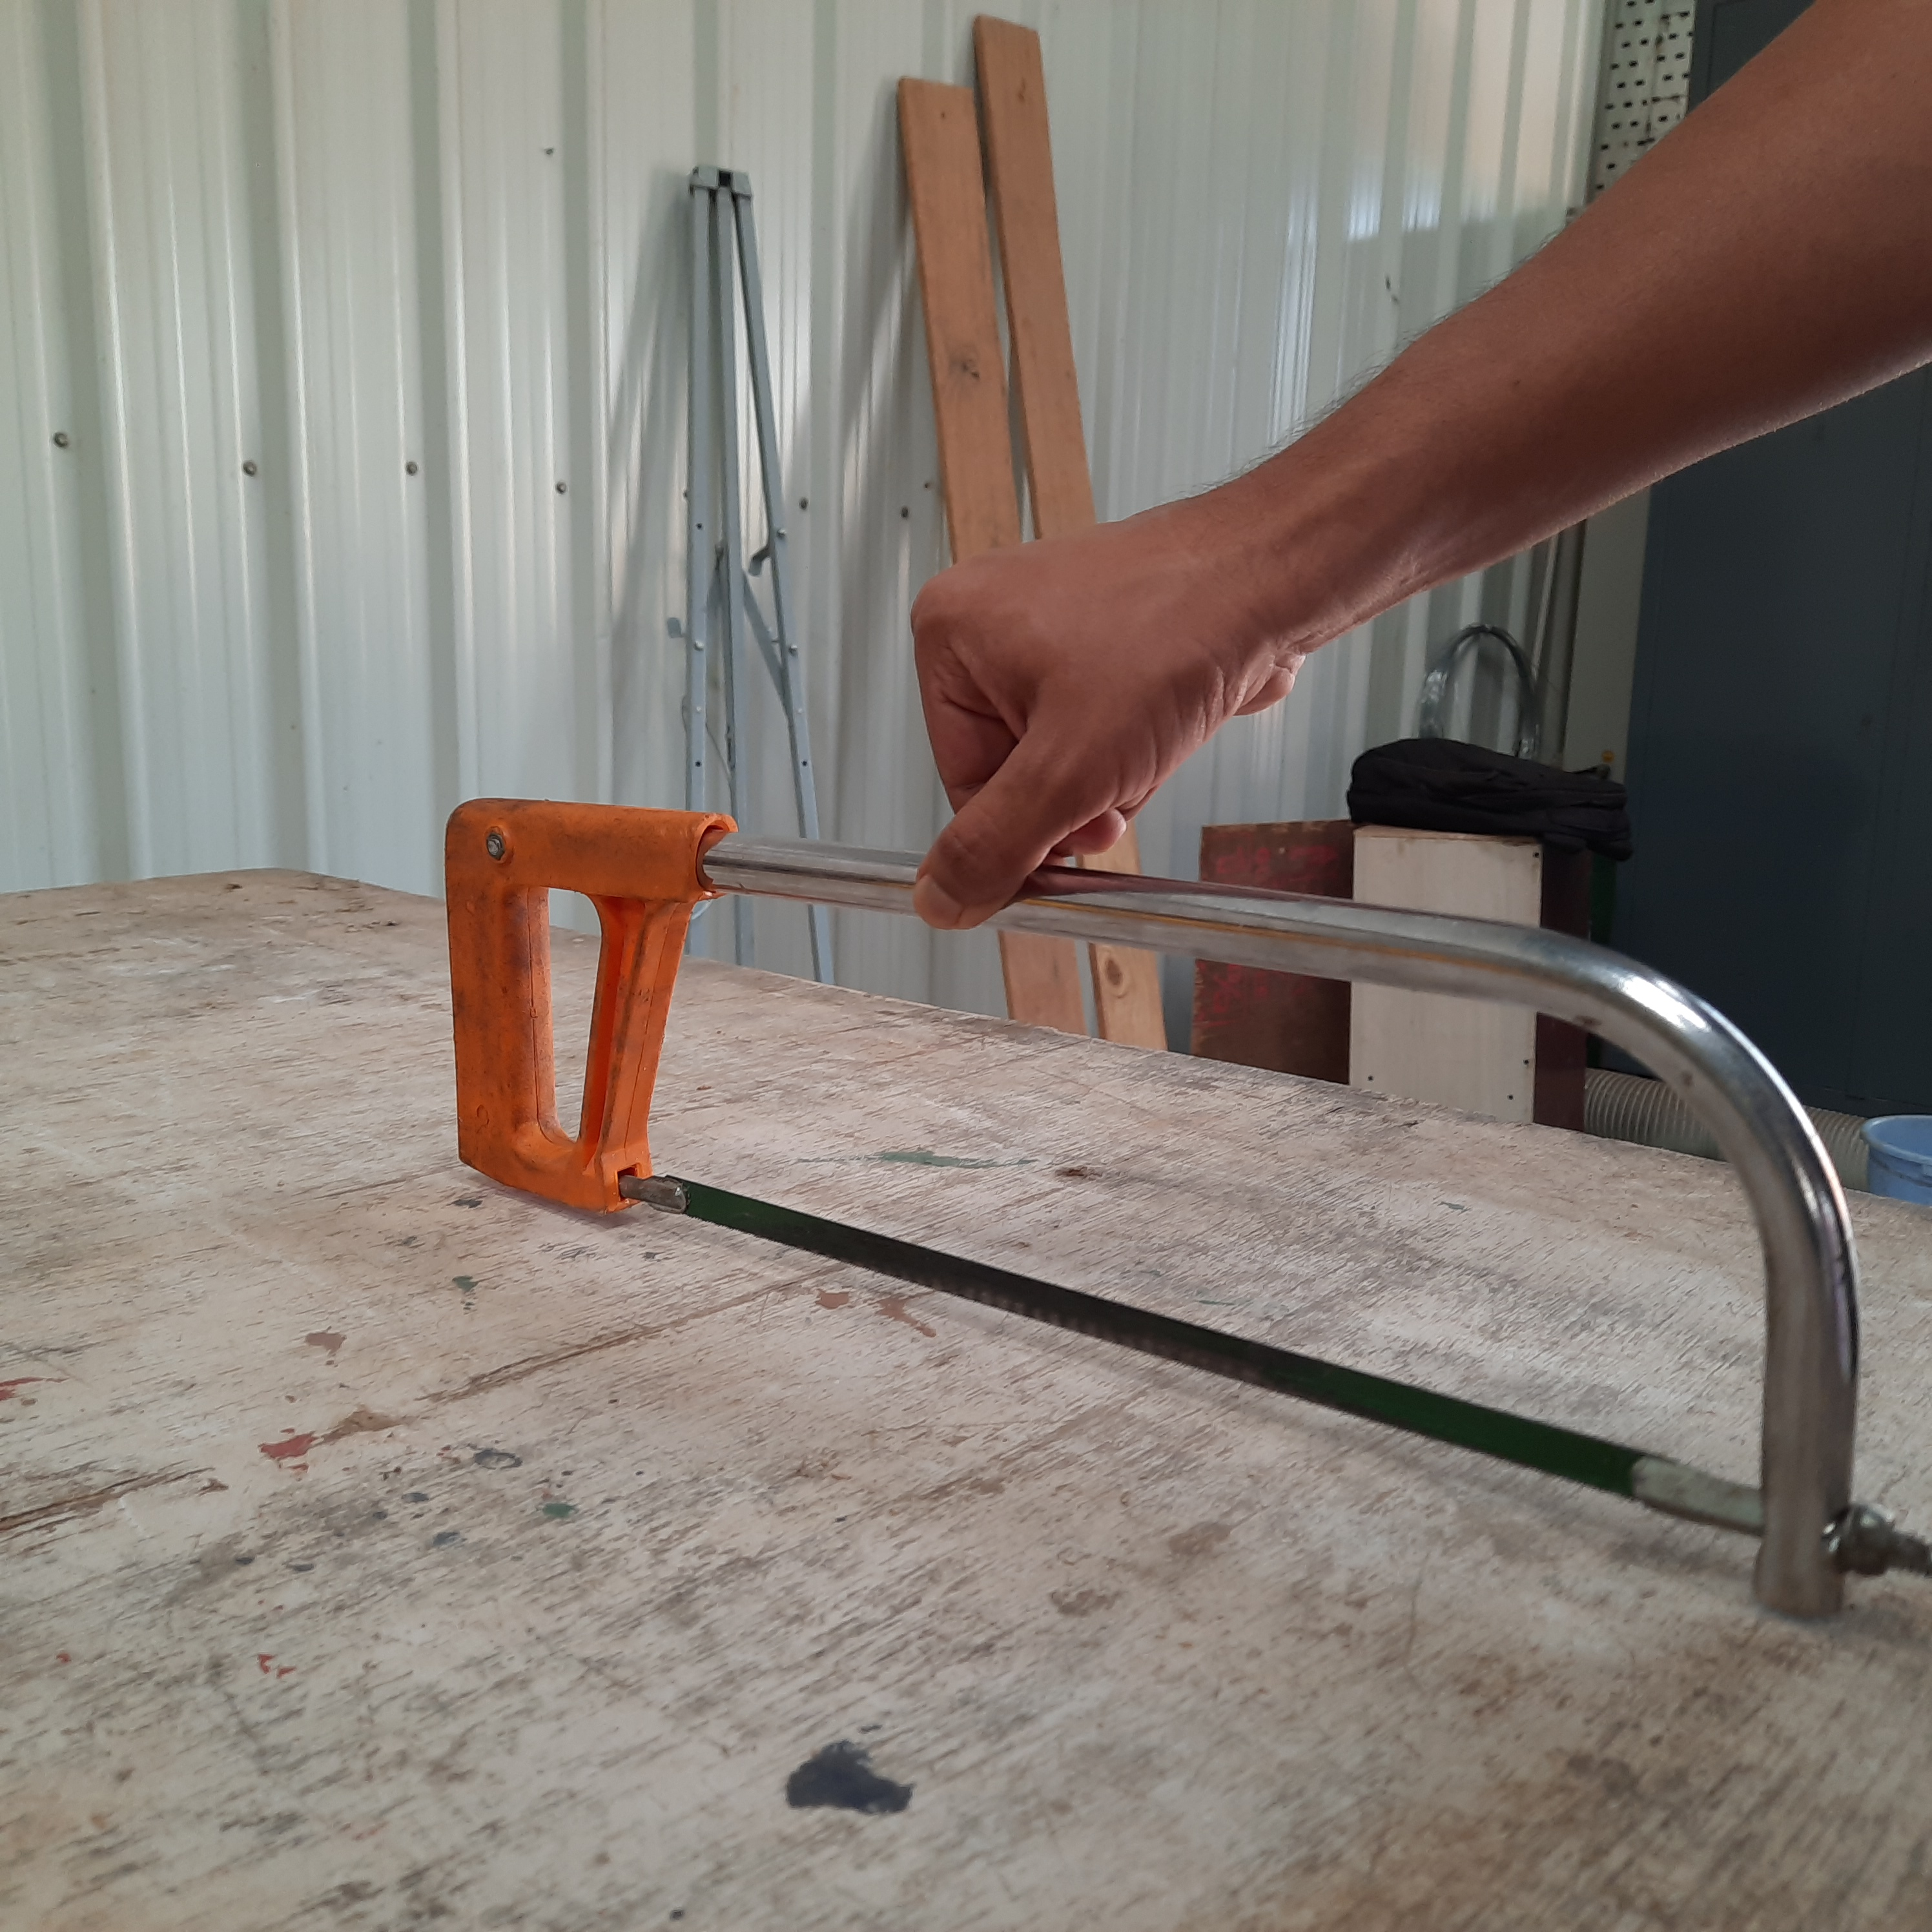Hexaframe: (416, 740, 1932, 1598)
